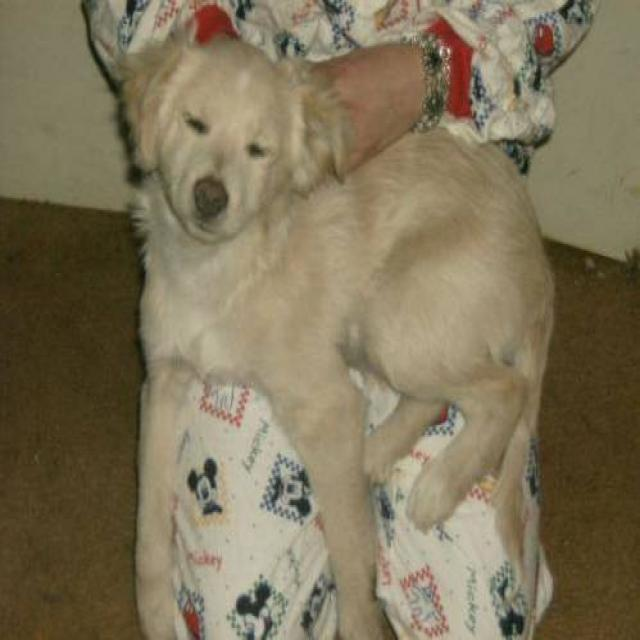Dog: (106, 11, 354, 284)
